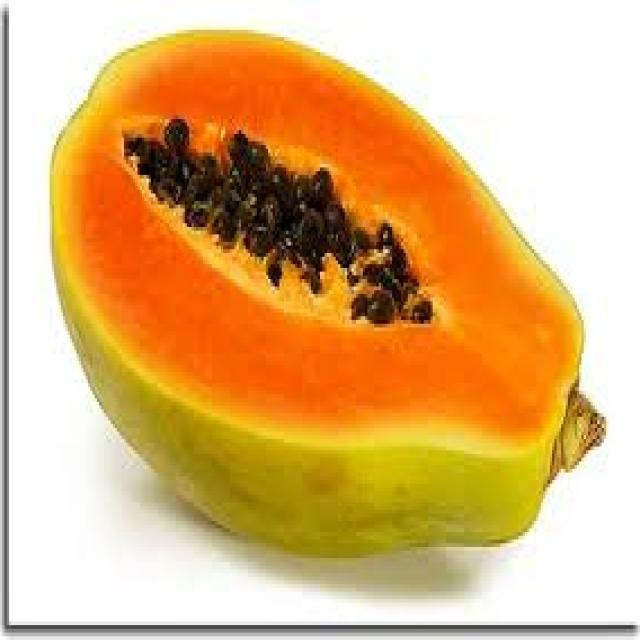papaya: (34, 11, 640, 555)
